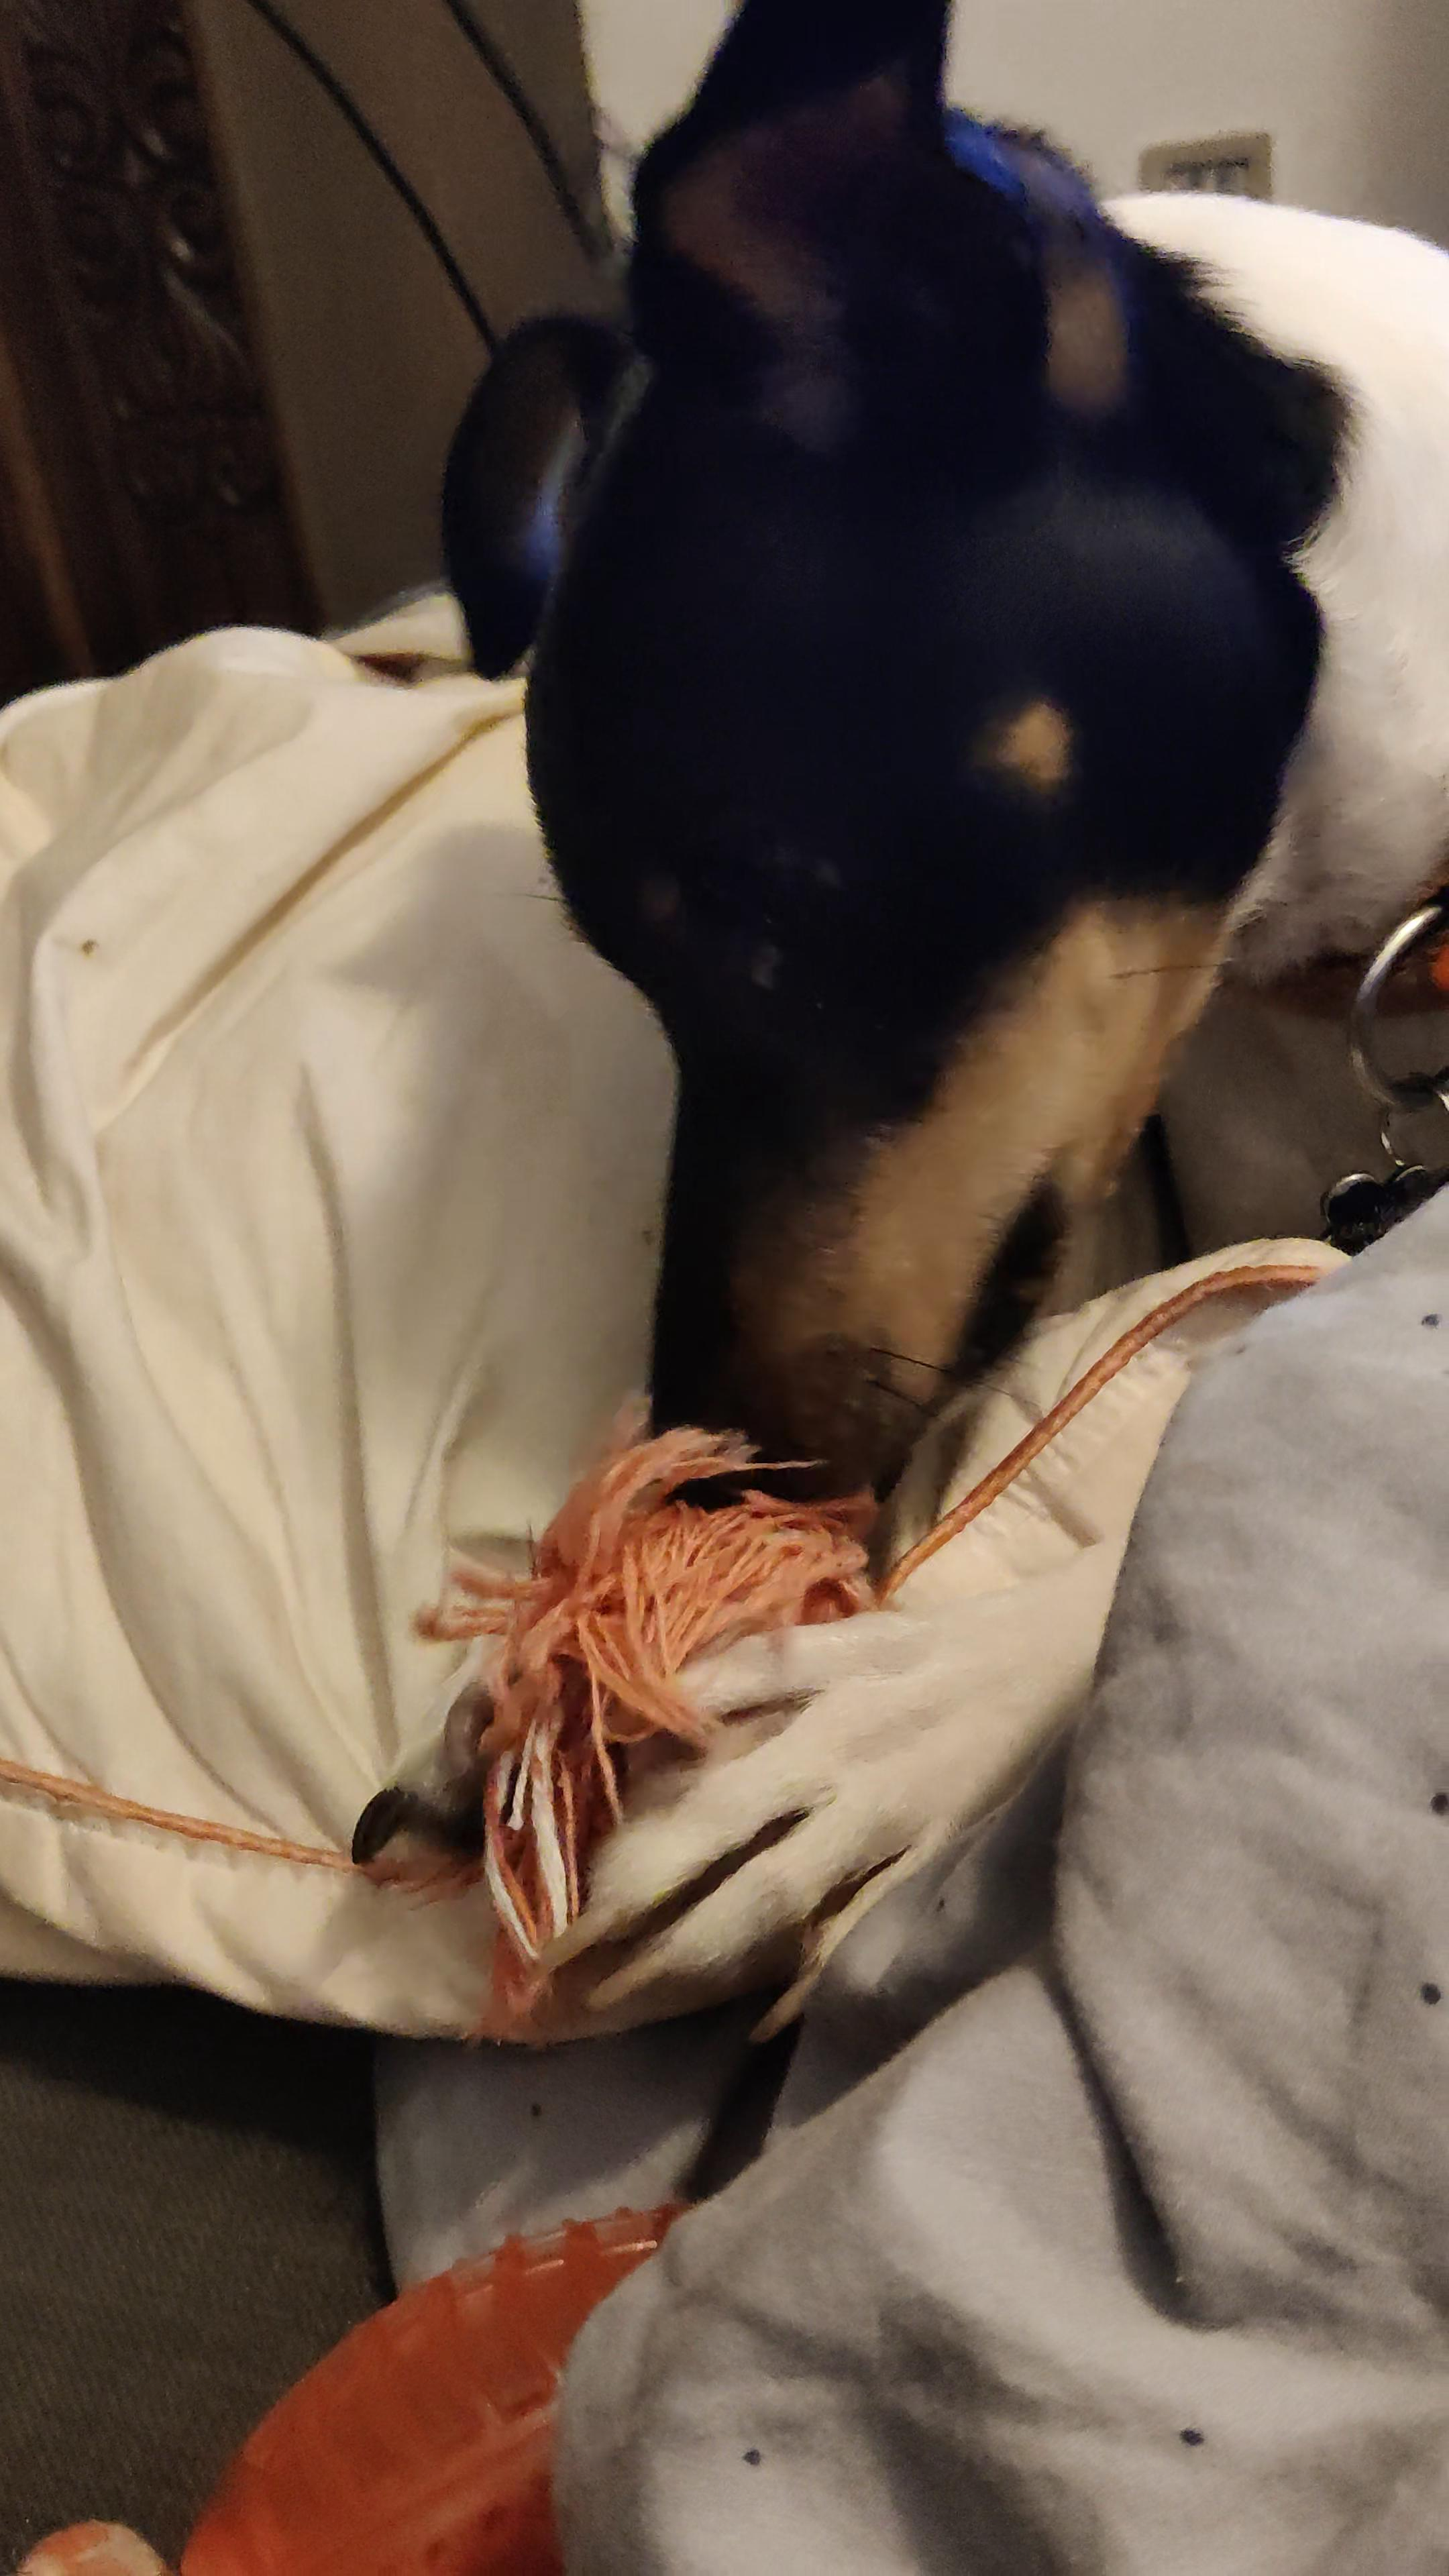Dog: (326, 0, 1449, 2091)
